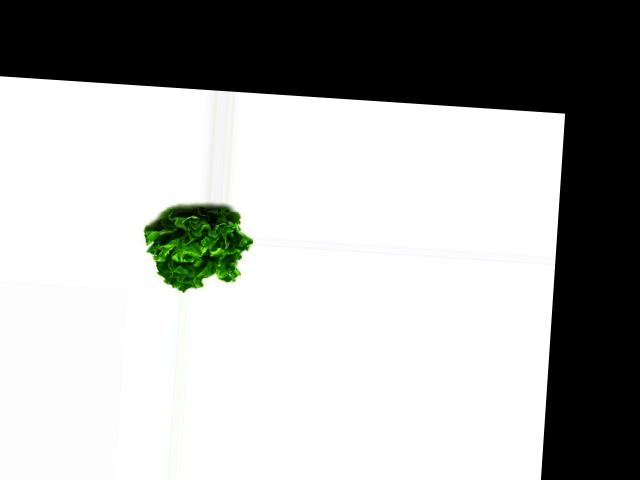lettuce: (143, 200, 253, 295)
